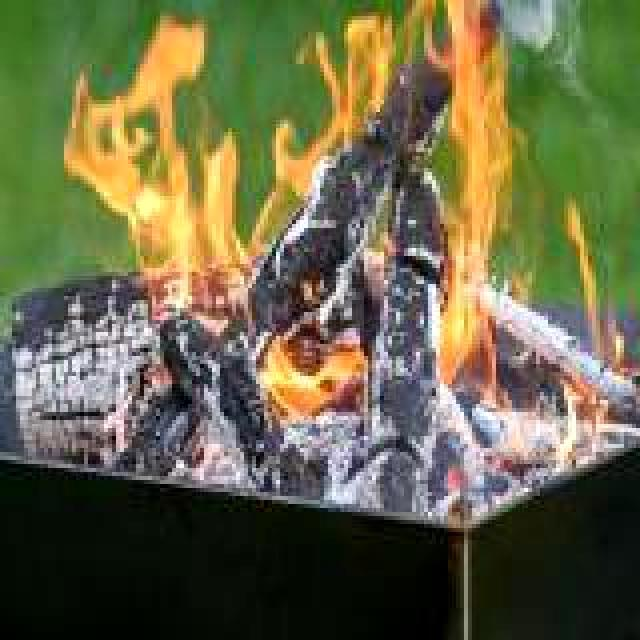fire: (60, 0, 520, 440)
